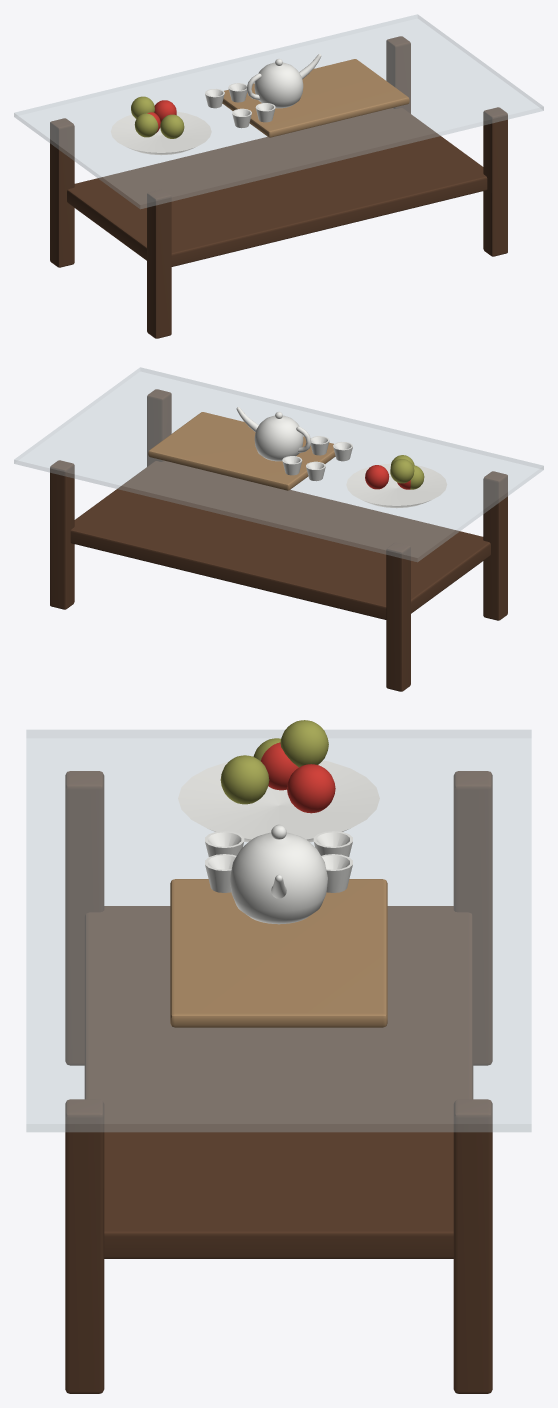
File: bgd_ban_tra.glb
3 views of the same model, one above another, from view 1: azimuth 30°, elevation 25°; view 2: azimuth 150°, elevation 25°; view 3: azimuth 270°, elevation 25° (orthographic). The views are drawn at different scales.
Parts seen in each view (by area): view 1: bgd_ban_tra; view 2: bgd_ban_tra; view 3: bgd_ban_tra.
Boxes of the visible parts, <box> form: bgd_ban_tra: <box>14,14,543,338</box>; bgd_ban_tra: <box>14,367,543,691</box>; bgd_ban_tra: <box>26,720,531,1393</box>.
Size of the model in its own units: 1.2 by 0.5643 by 0.65.
